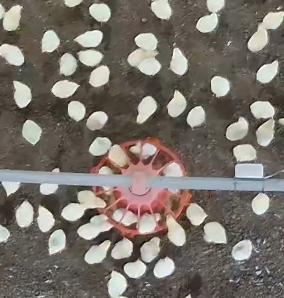chick: (83, 240, 114, 264), (165, 212, 187, 245), (38, 165, 62, 195), (163, 160, 185, 192), (135, 96, 159, 125), (75, 189, 107, 210), (247, 22, 269, 52), (106, 270, 129, 298), (72, 29, 104, 49), (11, 80, 33, 109), (166, 89, 187, 119), (50, 79, 80, 100), (127, 48, 160, 67), (2, 4, 23, 33), (168, 46, 189, 75), (95, 163, 114, 195), (0, 43, 25, 67), (202, 221, 228, 244), (136, 211, 162, 234), (225, 117, 249, 141), (194, 11, 219, 34), (255, 118, 276, 145), (35, 205, 55, 233), (255, 60, 279, 83), (185, 201, 208, 225), (152, 256, 175, 280), (138, 238, 162, 261), (47, 227, 66, 256), (22, 118, 42, 145), (40, 28, 60, 55), (111, 237, 134, 260), (85, 110, 109, 132), (79, 223, 110, 240), (110, 208, 139, 226), (121, 260, 147, 280), (62, 202, 88, 222), (15, 200, 34, 227), (88, 2, 110, 25), (186, 105, 206, 130), (89, 65, 110, 88), (58, 52, 78, 76), (128, 142, 158, 158), (231, 239, 252, 261), (137, 55, 160, 75), (250, 192, 270, 215), (250, 101, 274, 120), (134, 32, 159, 50), (77, 50, 103, 67), (232, 144, 258, 161), (210, 76, 230, 97), (1, 177, 22, 197), (150, 1, 172, 20), (261, 10, 284, 28), (67, 100, 86, 121), (89, 137, 109, 155)
rice: (88, 138, 192, 238)
